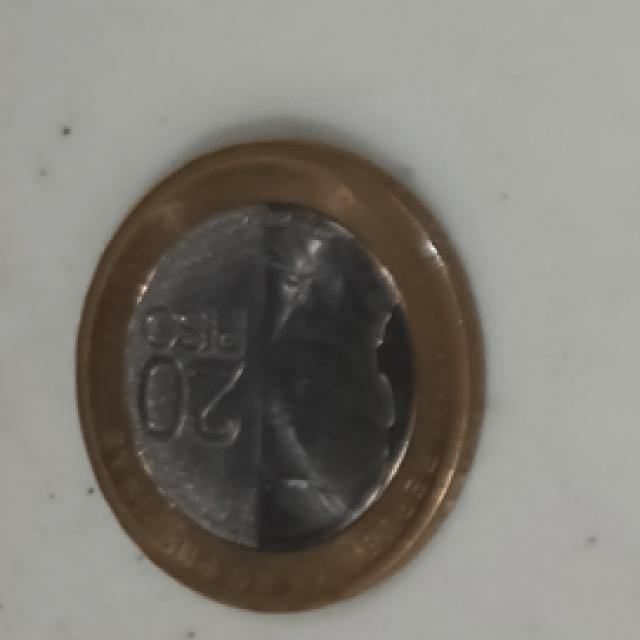20_peso: (78, 145, 482, 606)
